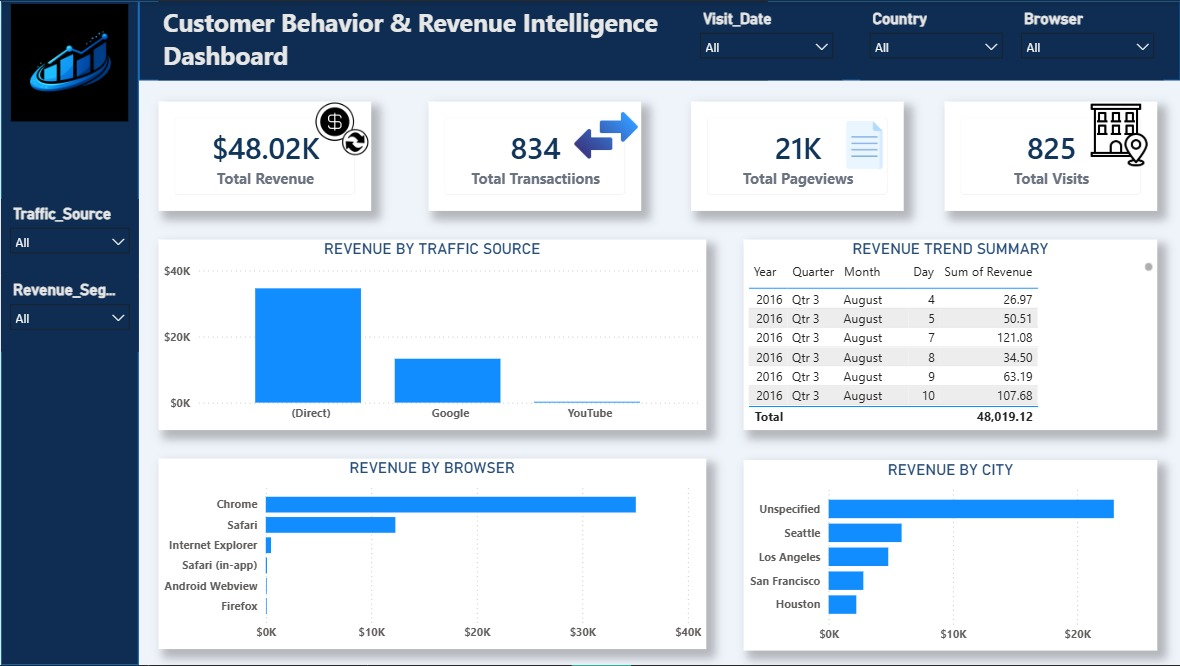

This screenshot's page, from the dashboard's own definition file:
{"tool":"powerbi","page":{"name":"Executive Overview","canvas":[1280,720],"ordinal":0},"visuals":[{"type":"shape","box":[0,0,149.3,720],"z":0},{"type":"shape","box":[149.6,0,1130.4,86.2],"z":1000},{"type":"textbox","box":[170.8,0,660.4,86.2],"z":2000},{"type":"slicer","fields":{"Values":["FactCustomerBehaviour.Visit_Date"]},"box":[748.2,3.3,164.3,83],"z":3000},{"type":"slicer","fields":{"Values":["FactCustomerBehaviour.Country"]},"box":[932,3.3,164.3,83],"z":4000},{"type":"slicer","fields":{"Values":["FactCustomerBehaviour.Browser"]},"box":[1096.3,3.3,164.3,83],"z":5000},{"type":"slicer","fields":{"Values":["FactCustomerBehaviour.Traffic_Source"]},"box":[0,214.7,149.6,83],"z":6000},{"type":"slicer","fields":{"Values":["FactCustomerBehaviour.Revenue_Segment"]},"box":[0,297.7,149.6,83],"z":7000},{"type":"cardVisual","fields":{"Data":["FactCustomerBehaviour.Total Revenue"]},"box":[170.8,109,231,118.7],"z":8000},{"type":"cardVisual","fields":{"Data":["FactCustomerBehaviour.Total Transactiions"]},"box":[463.6,109,231,118.7],"z":9000},{"type":"cardVisual","fields":{"Data":["FactCustomerBehaviour.Total Pageviews"]},"box":[748.2,109,231,118.7],"z":10000},{"type":"cardVisual","fields":{"Data":["FactCustomerBehaviour.Total Visits"]},"box":[1023.1,109,231,118.7],"z":11000},{"type":"tableEx","title":"REVENUE TREND SUMMARY","fields":{"Values":["FactCustomerBehaviour.Visit_Date.Variation.Date Hierarchy.Year","FactCustomerBehaviour.Visit_Date.Variation.Date Hierarchy.Quarter","FactCustomerBehaviour.Visit_Date.Variation.Date Hierarchy.Month","FactCustomerBehaviour.Visit_Date.Variation.Date Hierarchy.Day","Sum(FactCustomerBehaviour.Revenue)"]},"box":[805.1,258.6,448.9,206.6],"z":12000},{"type":"clusteredBarChart","title":"REVENUE BY BROWSER","fields":{"Y":["FactCustomerBehaviour.Total Revenue"],"Category":["FactCustomerBehaviour.Browser"]},"box":[170.8,496.1,593.7,206.6],"z":13000},{"type":"clusteredColumnChart","title":"REVENUE BY TRAFFIC SOURCE","fields":{"Category":["FactCustomerBehaviour.Traffic_Source"],"Y":["FactCustomerBehaviour.Total Revenue"]},"box":[170.8,258.6,593.7,206.6],"z":14000},{"type":"clusteredBarChart","title":"REVENUE BY CITY","fields":{"Y":["FactCustomerBehaviour.Total Revenue"],"Category":["FactCustomerBehaviour.City"]},"box":[805.1,497.7,448.9,206.6],"z":15000},{"type":"image","box":[0,3.3,149.1,127.5],"z":16000},{"type":"image","box":[337.9,109.3,62.9,59.6],"z":17000},{"type":"image","box":[1171.1,109.3,82.8,72.9],"z":18000},{"type":"image","box":[618.1,109,76.4,73.2],"z":19000},{"type":"image","box":[893,130.1,86.2,52],"z":20000}]}

Visuals, with their boxes in screenshot pixels (x1, y1, x2, y2), scaled from the page's 1280x720 canvas onto the 1180x666 screenshot:
shape: detection(0, 0, 138, 665)
shape: detection(138, 0, 1179, 80)
textbox: detection(157, 0, 766, 80)
slicer - FactCustomerBehaviour.Visit_Date: detection(690, 3, 841, 80)
slicer - FactCustomerBehaviour.Country: detection(859, 3, 1011, 80)
slicer - FactCustomerBehaviour.Browser: detection(1011, 3, 1162, 80)
slicer - FactCustomerBehaviour.Traffic_Source: detection(0, 199, 138, 275)
slicer - FactCustomerBehaviour.Revenue_Segment: detection(0, 275, 138, 352)
cardVisual - FactCustomerBehaviour.Total Revenue: detection(157, 101, 370, 211)
cardVisual - FactCustomerBehaviour.Total Transactiions: detection(427, 101, 640, 211)
cardVisual - FactCustomerBehaviour.Total Pageviews: detection(690, 101, 903, 211)
cardVisual - FactCustomerBehaviour.Total Visits: detection(943, 101, 1156, 211)
"REVENUE TREND SUMMARY" tableEx: detection(742, 239, 1156, 430)
"REVENUE BY BROWSER" clusteredBarChart: detection(157, 459, 705, 650)
"REVENUE BY TRAFFIC SOURCE" clusteredColumnChart: detection(157, 239, 705, 430)
"REVENUE BY CITY" clusteredBarChart: detection(742, 460, 1156, 651)
image: detection(0, 3, 137, 121)
image: detection(312, 101, 369, 156)
image: detection(1080, 101, 1156, 169)
image: detection(570, 101, 640, 169)
image: detection(823, 120, 903, 168)
